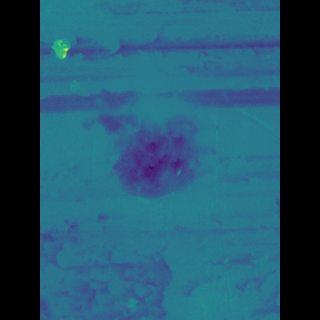Loch: (91, 60, 221, 319)
